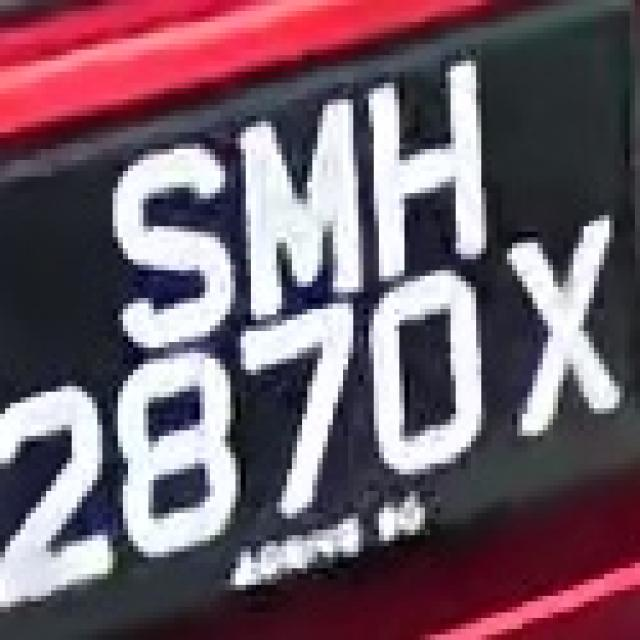0: (343, 259, 492, 469)
2: (10, 364, 113, 607)
7: (230, 298, 364, 546)
8: (112, 331, 235, 574)
H: (364, 50, 486, 276)
M: (220, 88, 369, 320)
S: (107, 132, 235, 348)
X: (496, 221, 630, 447)
